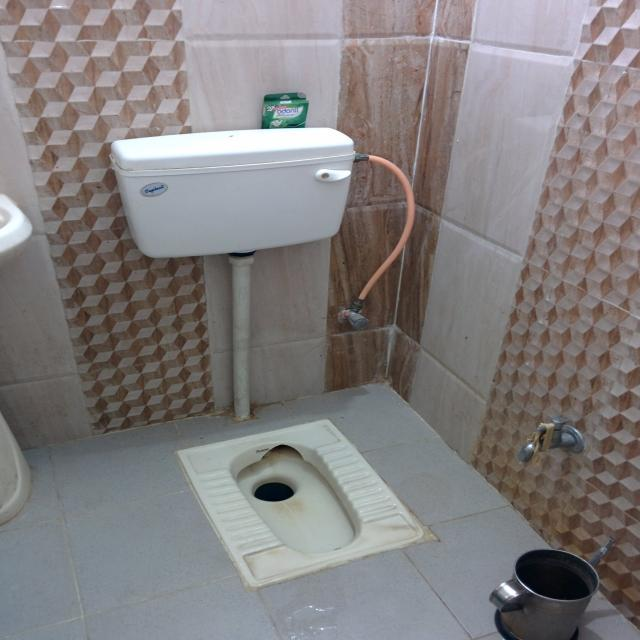dirty_floor: (2, 1, 637, 633), (1, 0, 213, 435)
